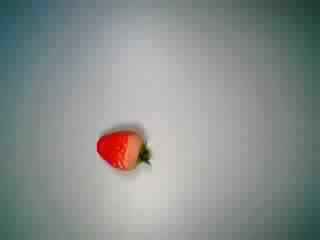strawberry: (89, 116, 157, 180)
